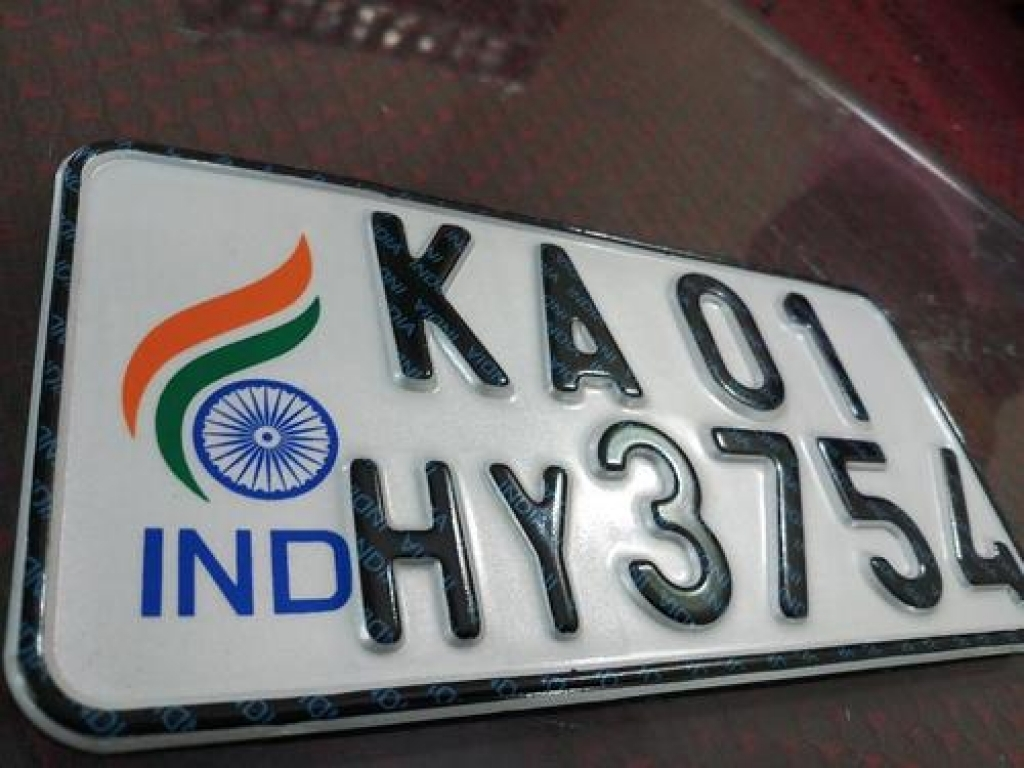number_plate: (14, 132, 1023, 755)
